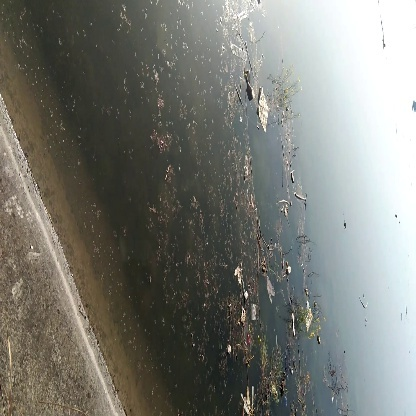plastic-garbage: (252, 82, 279, 131)
